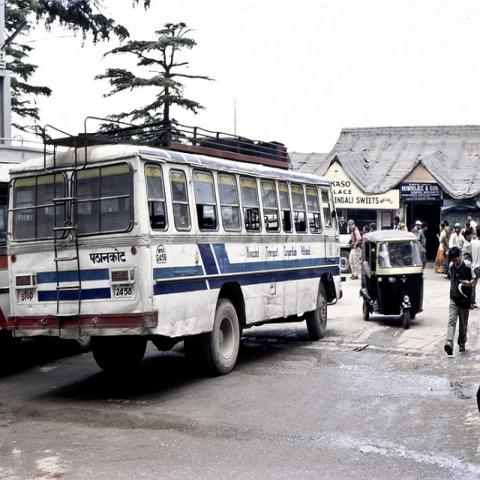bus: (5, 118, 342, 372)
car: (340, 236, 352, 273)
